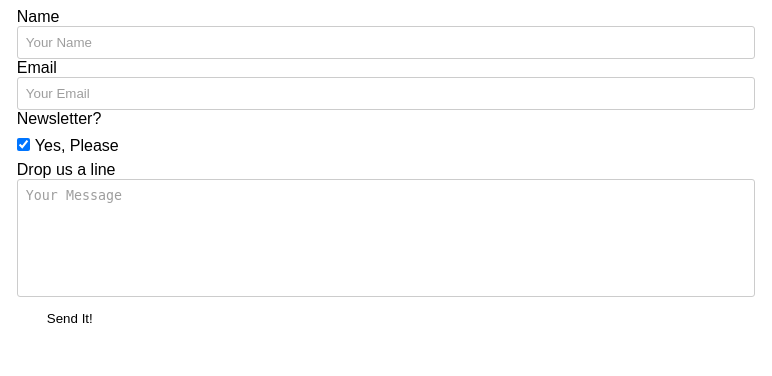
🧪 FORM: › submit tests: › should fail with name empty
This screenshot has width=772, height=376.
Step 1. Type "test@example.com" into the field labelled "Email" → (386, 94), box [17, 77, 755, 110]
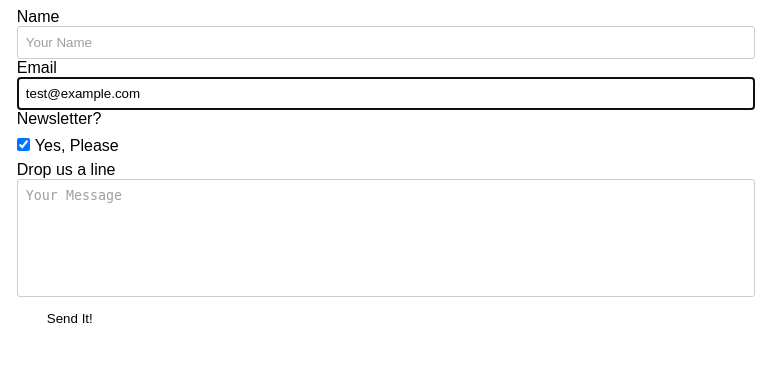
Step 2. Type "test message" into the text box → (386, 238), box [17, 179, 755, 297]
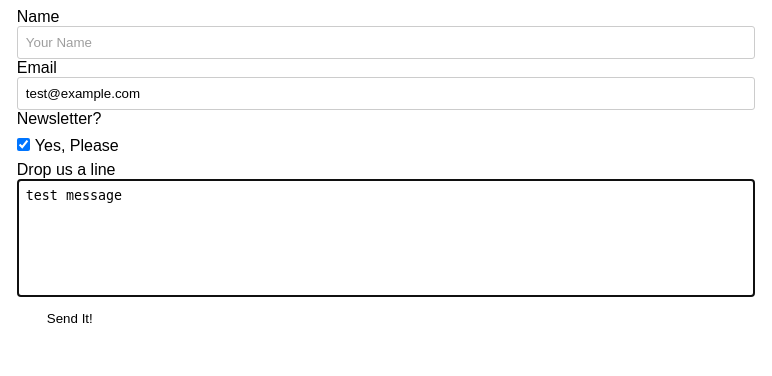
Step 3. Click the button "Send it!" → (70, 318), box [17, 301, 123, 336]
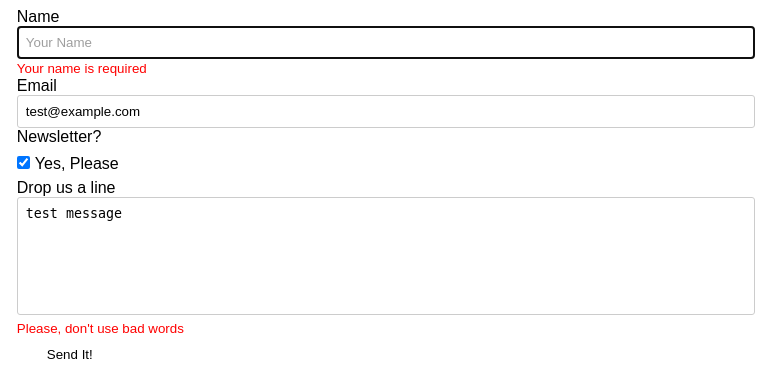
expect the text "Your name is required" is shown: met, box [17, 61, 147, 76]
